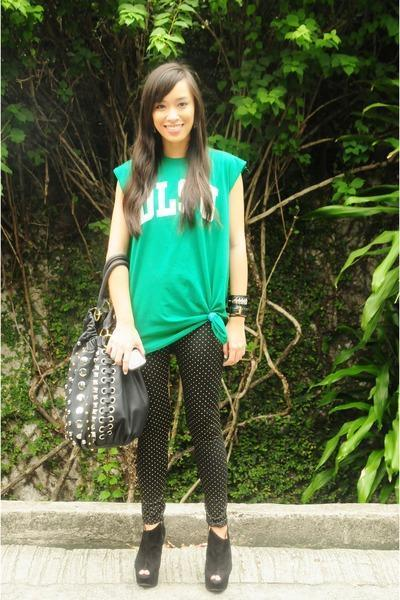bag: (45, 252, 148, 458)
pants: (133, 324, 236, 525)
shirt: (113, 149, 247, 354)
shoe: (135, 516, 231, 593)
